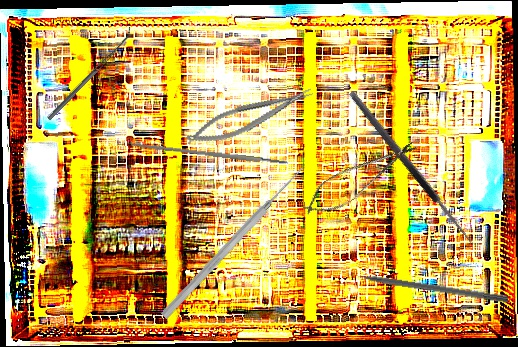Hook Surgical: (347, 84, 485, 248)
Micro Scissor: (294, 128, 426, 227)
Needle Holder: (182, 81, 318, 153)
Pusher: (159, 164, 307, 321), (339, 267, 509, 304)
Scalpel Handle: (130, 141, 289, 167)
Spatula Surgical: (43, 26, 136, 121)
